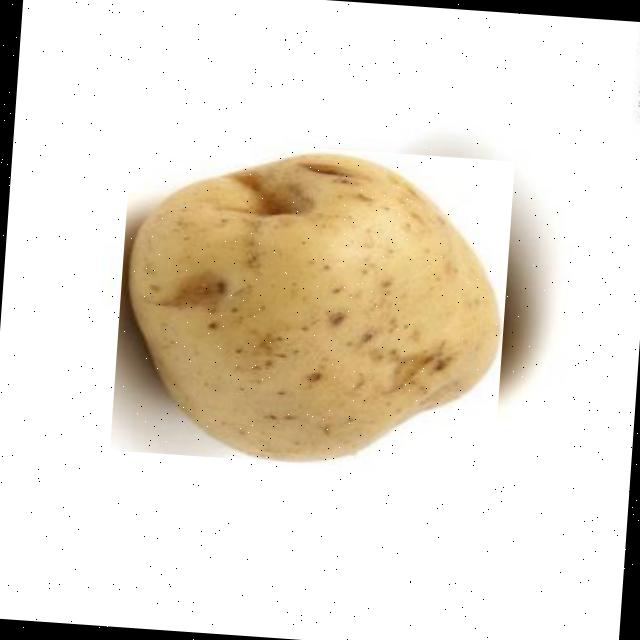Potato: (109, 134, 514, 477)
